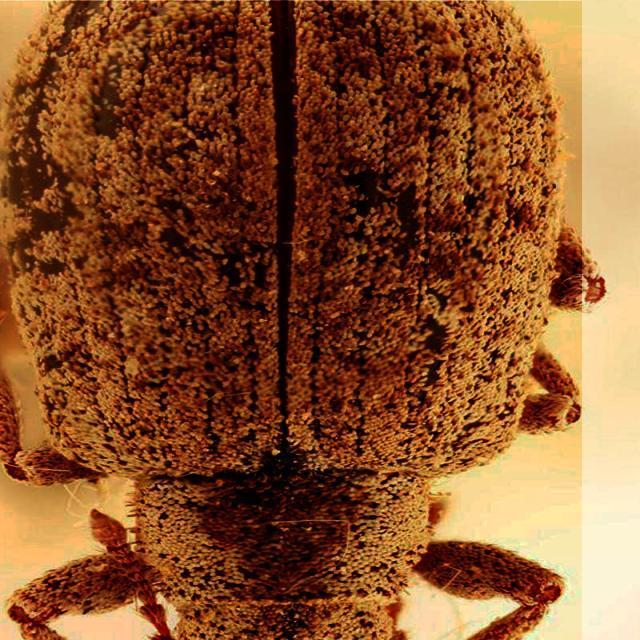rice-bug: (0, 1, 582, 640)
